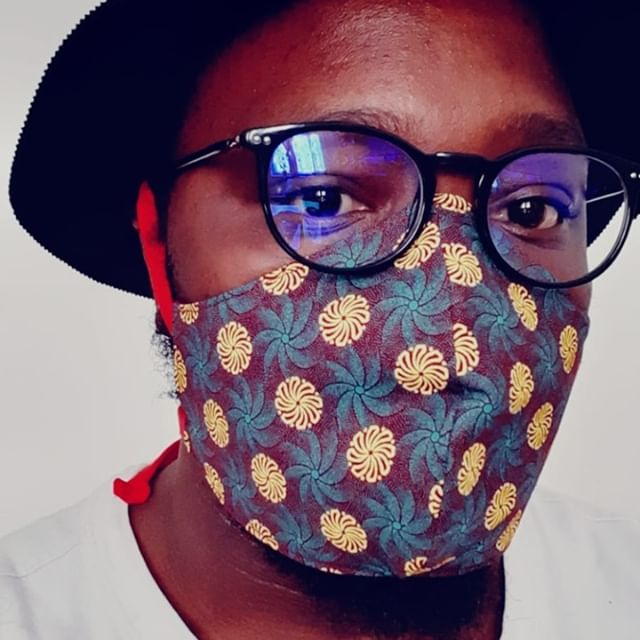homemade: (143, 212, 572, 577)
